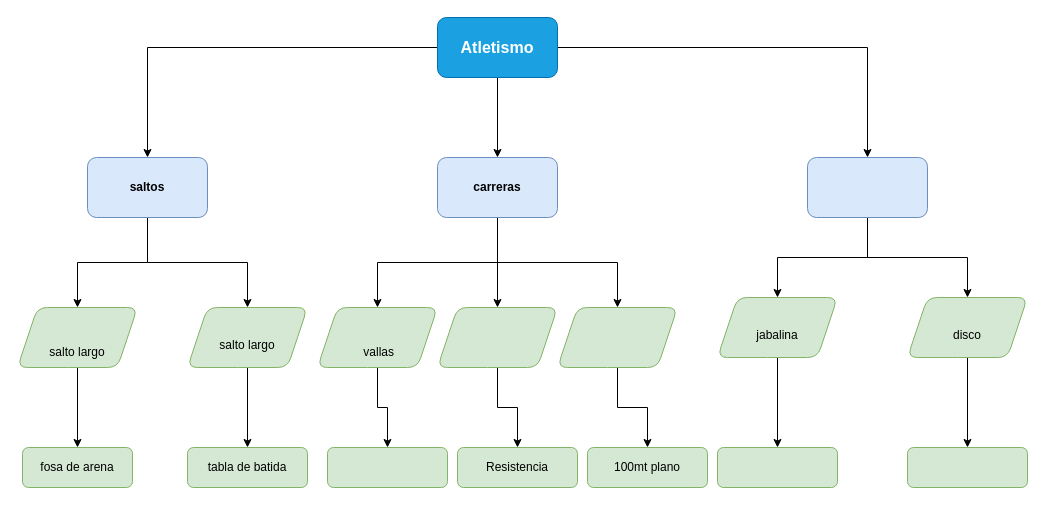
The diagram is 1045 pixels wide and 505 high, and some of its shapes have lost their labels. The centre of each missing label's shape, as x and y in pixels:
"fondo" belongs at (x=497, y=337).
"giro" belongs at (x=967, y=467).
"lanzamientos" belongs at (x=867, y=187).
"obstaculos" belongs at (x=387, y=467).
"tecnica lanzamiento" belongs at (x=777, y=467).
"velocidad" belongs at (x=617, y=337).
